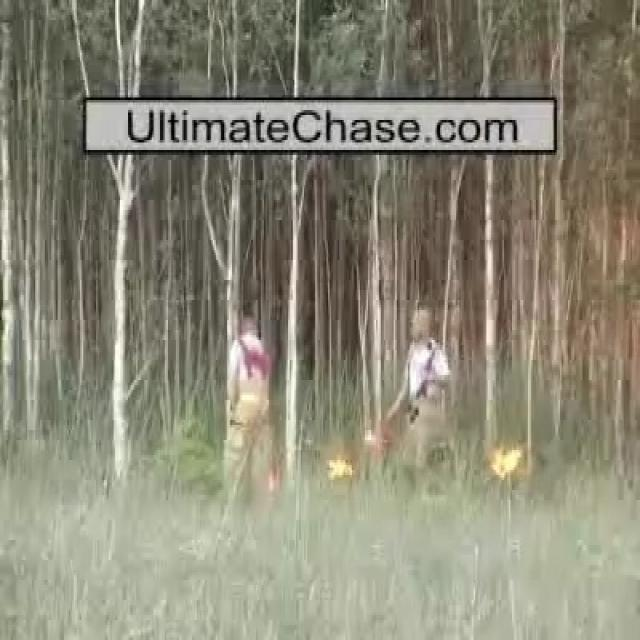fire: (490, 446, 522, 479), (328, 458, 351, 478)
